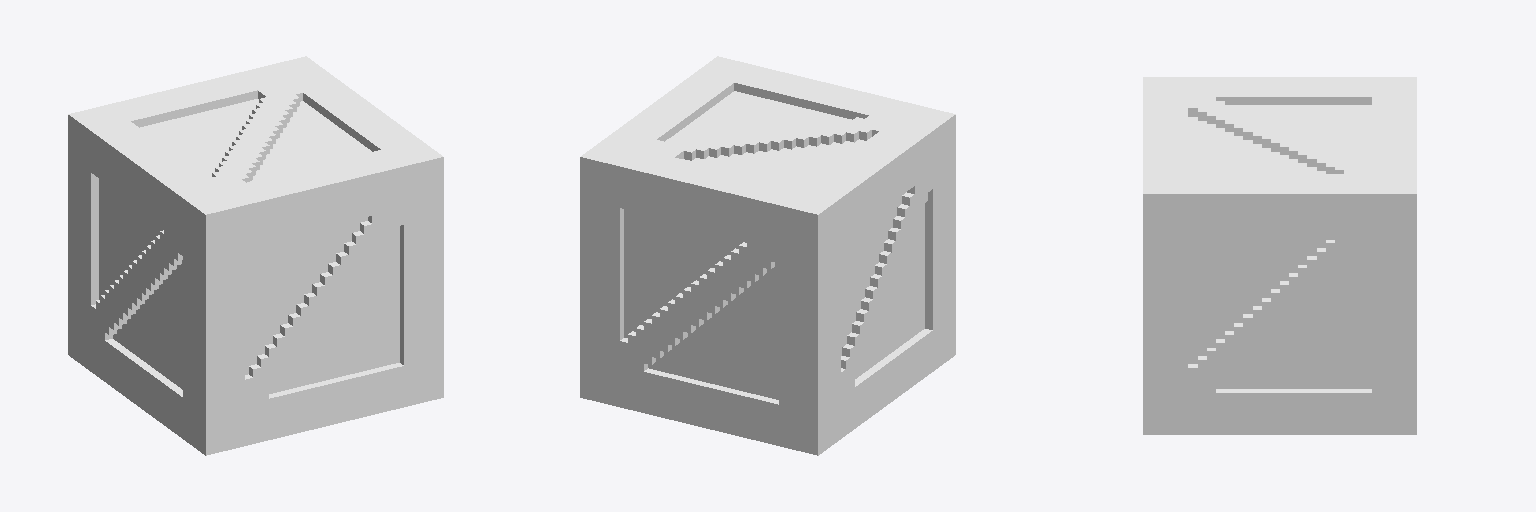
Rendered from woodbox2.obj.
3 views of the same model, side by side, from view 1: azimuth 30°, elevation 25°; view 2: azimuth 150°, elevation 25°; view 3: azimuth 270°, elevation 25° (orthographic).
Visible parts, largest first — view 1: object 1; view 2: object 1; view 3: object 1.
Part boxes in pixels (bbox=[...]): object 1: bbox=[68, 56, 443, 455]; object 1: bbox=[580, 56, 955, 455]; object 1: bbox=[1143, 77, 1416, 434].
Size of the model in its own units: 3 by 2.9 by 3.